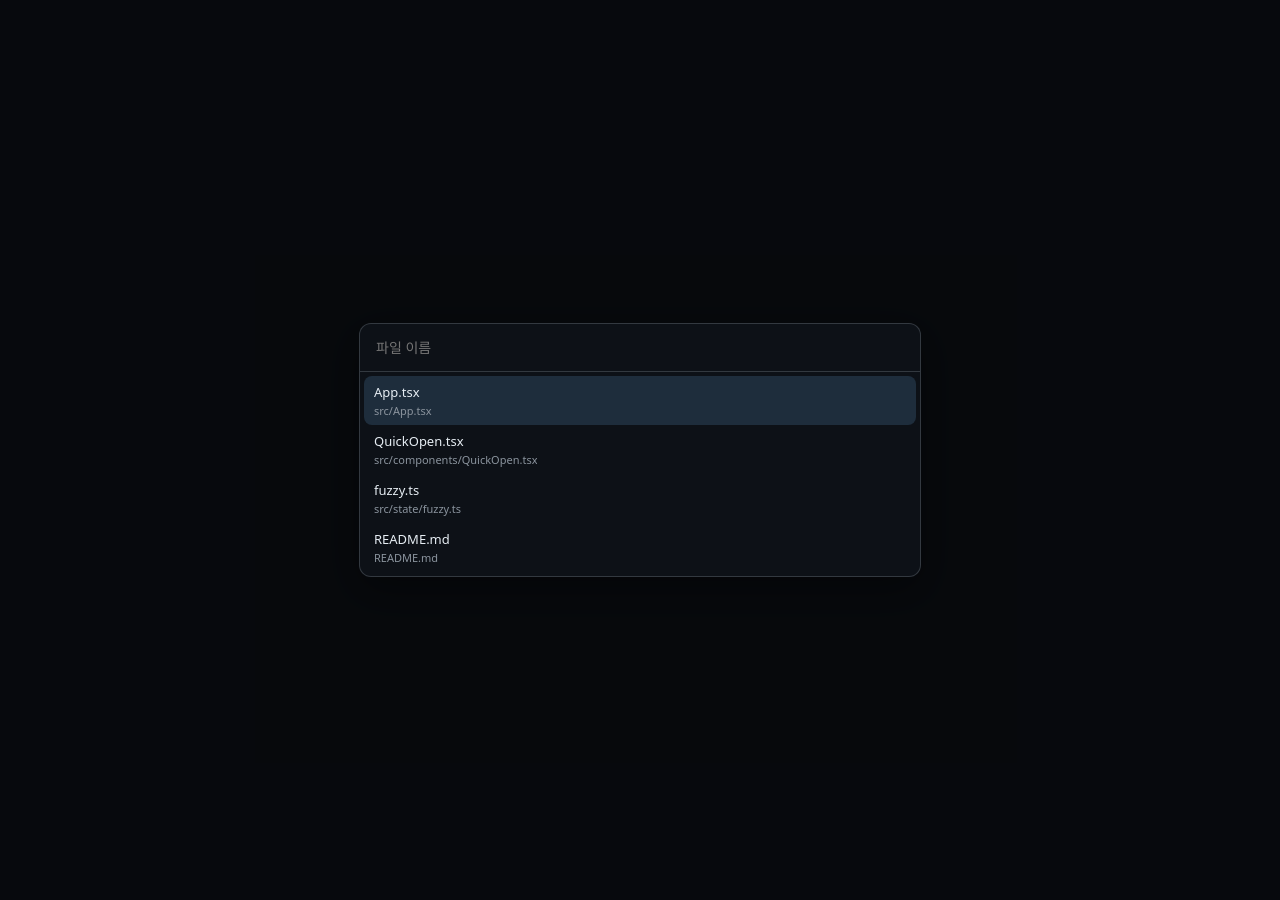
QuickOpen — 퍼지 필터 › 타이핑하면 부분수열로 좁혀진다
The image size is (1280, 900).
expect the text "App.tsx" is shown: met, box [374,383,420,401]
Type "quick" into the field labelled "파일 이름" at coordinates (640, 348), box [360,324,920,372]
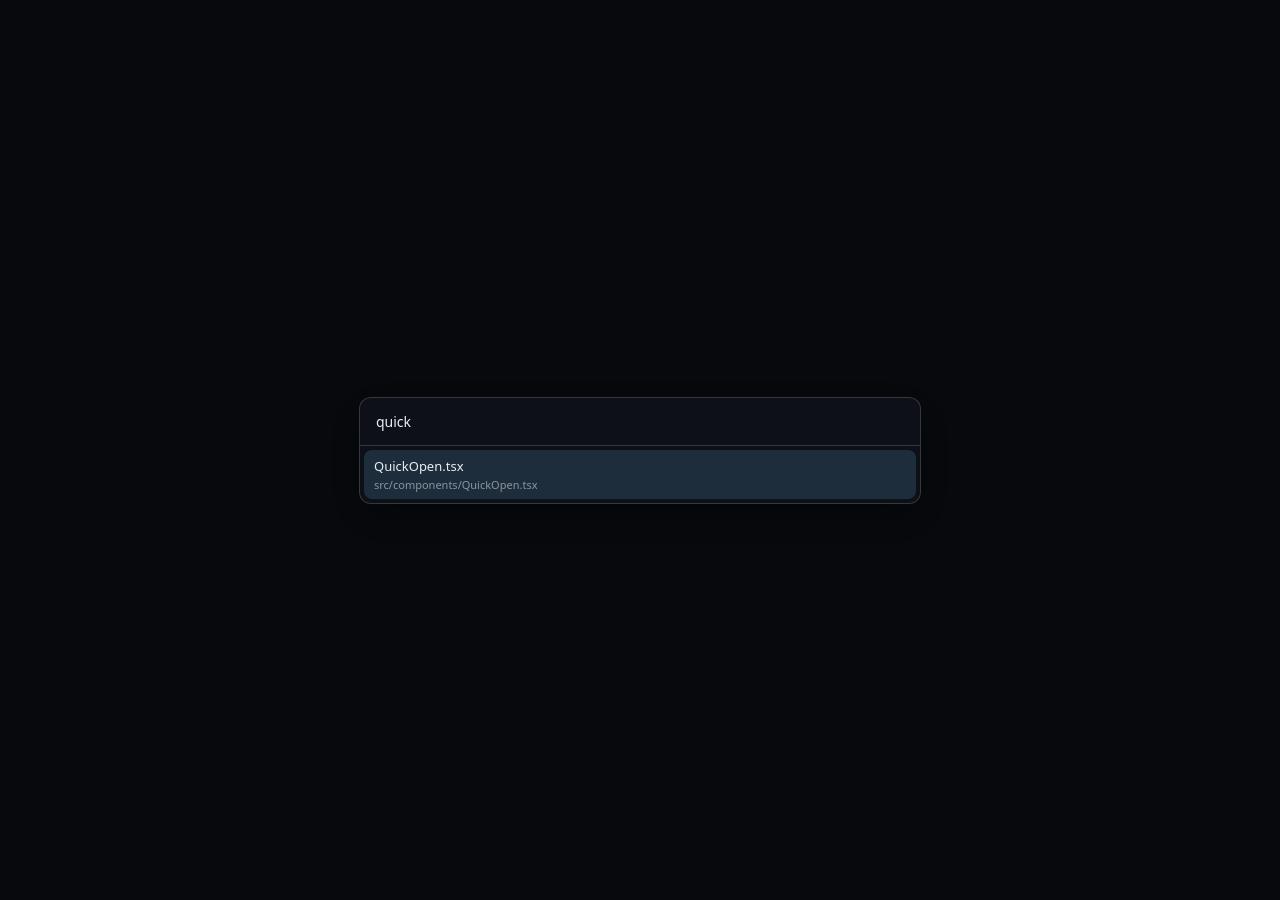
expect the text "QuickOpen.tsx" is shown: met, box [374,456,464,474]
expect the button "README.md" is gone: met
